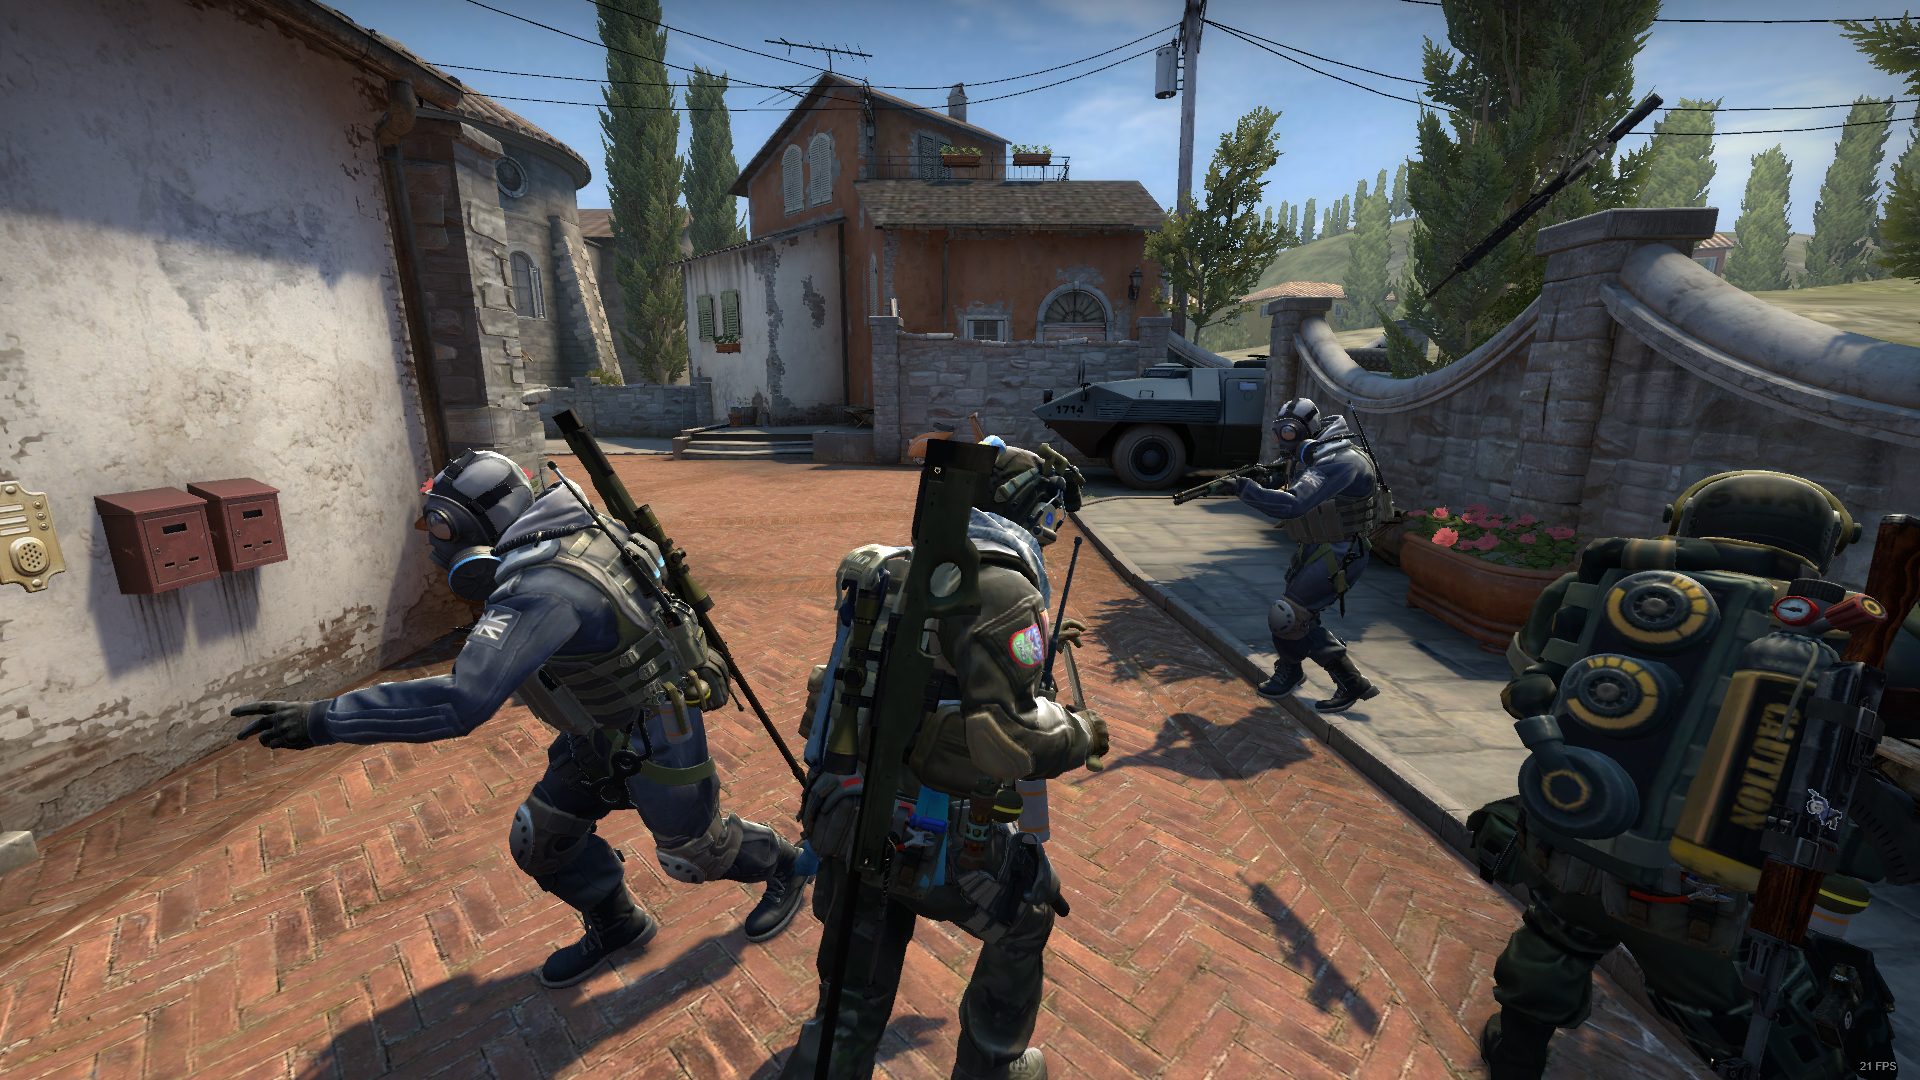ct: (232, 451, 808, 990), (1221, 396, 1393, 713)
